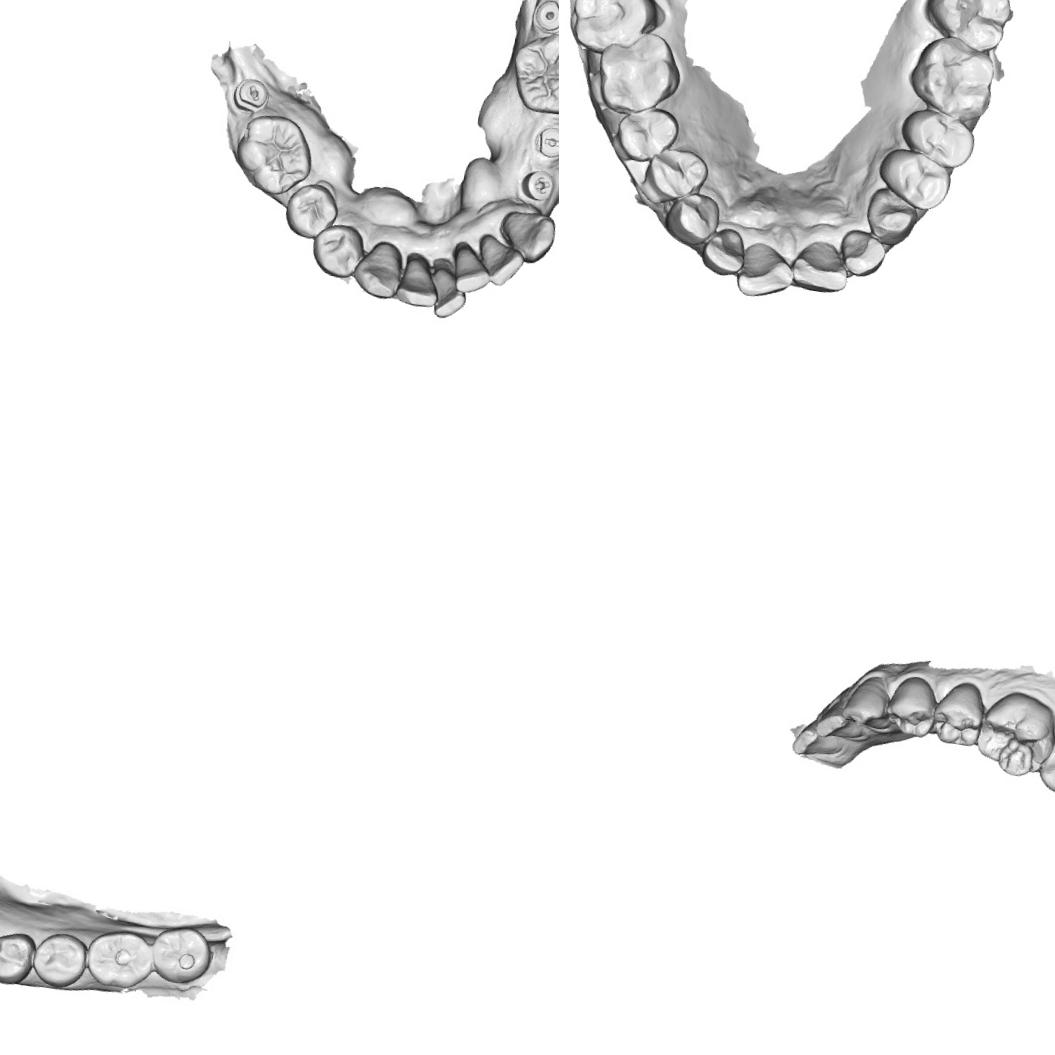canine: (836, 670, 900, 736), (862, 182, 925, 248), (495, 204, 559, 268), (660, 186, 723, 250), (348, 236, 408, 302)
implant: (531, 0, 559, 36)
implant_minus: (229, 74, 274, 117), (530, 120, 559, 164)
implant_plus: (517, 164, 559, 206)
incisor: (787, 233, 856, 297), (732, 238, 797, 304), (390, 249, 448, 312), (472, 232, 530, 290), (698, 222, 752, 282), (834, 225, 890, 282), (422, 261, 472, 323), (446, 241, 495, 299), (789, 720, 849, 765), (813, 704, 870, 744)
molar: (902, 28, 1004, 128), (588, 24, 688, 122), (228, 108, 320, 202), (969, 684, 1055, 783), (562, 0, 665, 61), (917, 0, 1019, 55), (502, 29, 559, 122), (147, 921, 218, 990), (83, 926, 153, 994), (1033, 722, 1055, 812)
premolar: (892, 102, 981, 172), (874, 145, 956, 216), (634, 141, 714, 210), (928, 675, 994, 751), (882, 670, 948, 744), (611, 101, 685, 166), (306, 216, 370, 283), (279, 179, 343, 244), (28, 927, 92, 991), (0, 928, 39, 987)
